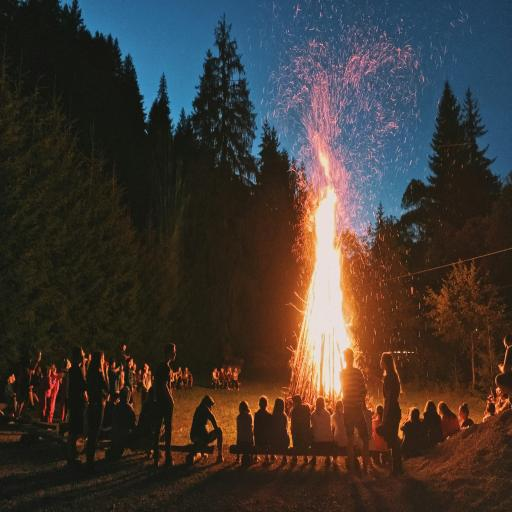campfire: (258, 4, 376, 482)
